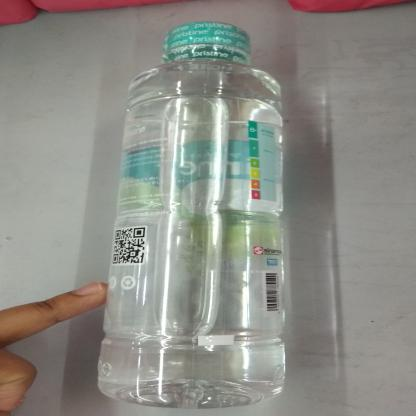plastic: (90, 17, 292, 412)
